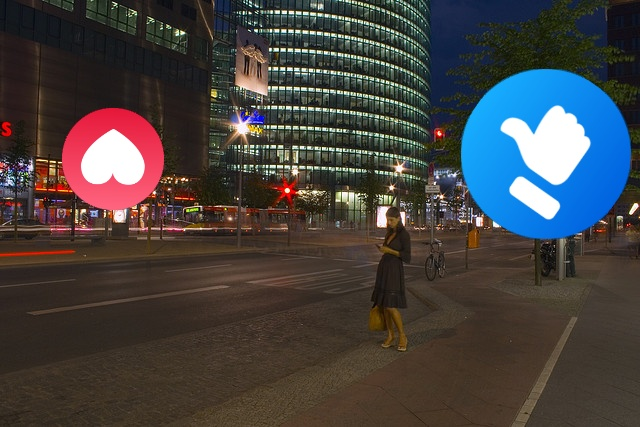like: (461, 69, 631, 239)
love: (62, 108, 164, 210)
